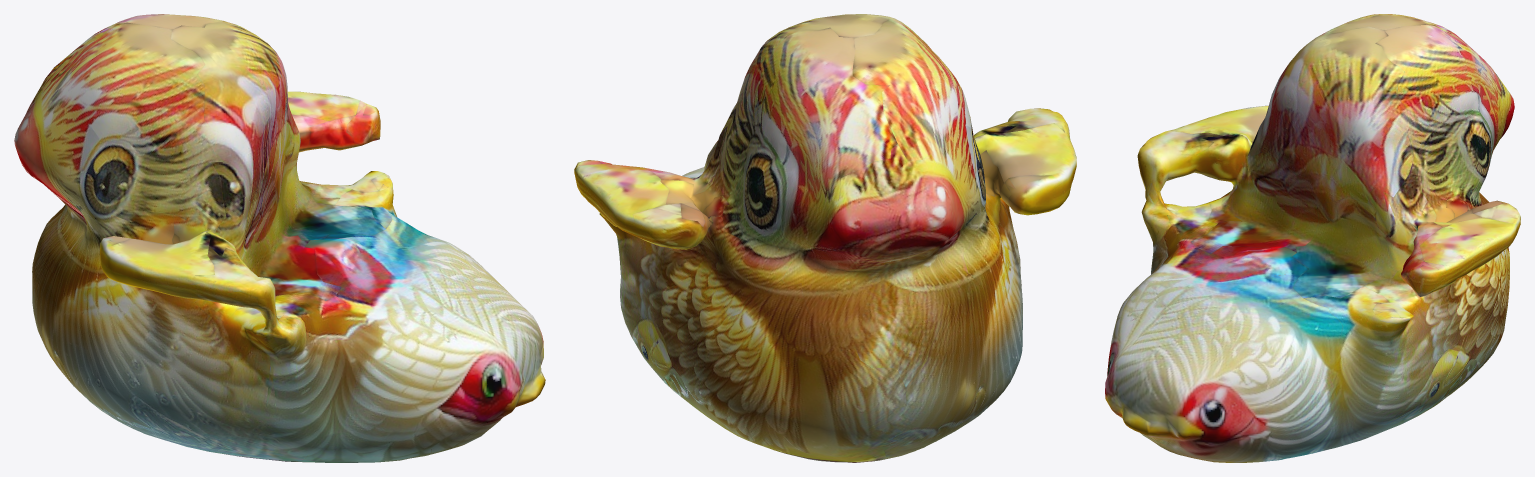
The model's file is rubber_ducky_2.glb.
3 renders of one model, left to right at view 1: azimuth 30°, elevation 25°; view 2: azimuth 150°, elevation 25°; view 3: azimuth 270°, elevation 25°, orthographic. The views are drawn at different scales.
Size of the model in its own units: 1 by 0.9255 by 0.9998.
1 material, 1 textured.
